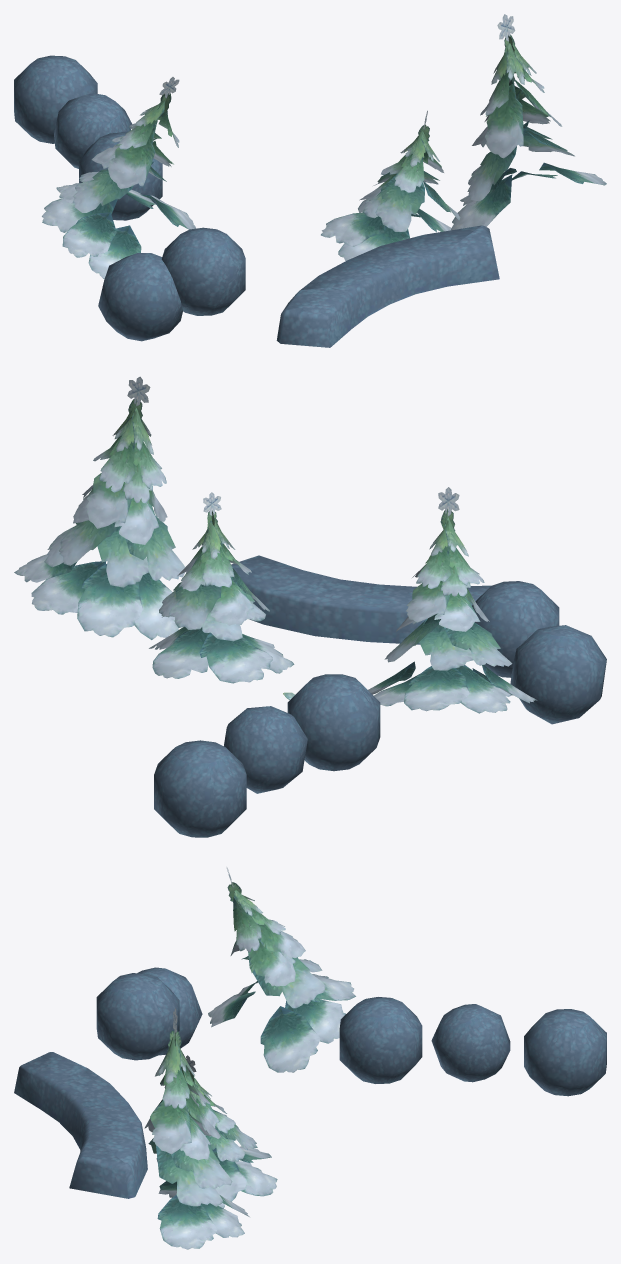
Rendered from pref_sm_beach_bk_winter_pointmol_longplant_L01_lv0.fbx.
The picture shows the model from 3 angles, top to bottom: view 1: azimuth 30°, elevation 25°; view 2: azimuth 150°, elevation 25°; view 3: azimuth 270°, elevation 25°; orthographic projection. The views are drawn at different scales.
Visible parts, largest first — view 1: pref_sm_beach_bk_winter_pointmol_longplant_L01_lv0; view 2: pref_sm_beach_bk_winter_pointmol_longplant_L01_lv0; view 3: pref_sm_beach_bk_winter_pointmol_longplant_L01_lv0.
Part boxes in pixels (x1,y1,x2,y2): pref_sm_beach_bk_winter_pointmol_longplant_L01_lv0: (14, 14, 606, 347); pref_sm_beach_bk_winter_pointmol_longplant_L01_lv0: (14, 376, 606, 837); pref_sm_beach_bk_winter_pointmol_longplant_L01_lv0: (14, 867, 606, 1249).
Bounding box in the file's own units: 21.01 × 10.06 × 21.33.
